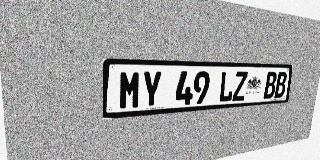4: (175, 71, 194, 106)
9: (192, 71, 210, 104)
B: (263, 72, 277, 99), (274, 72, 287, 98)
L: (218, 71, 235, 102)
M: (119, 70, 141, 110)
Y: (141, 71, 162, 108)
Z: (232, 71, 248, 101)
